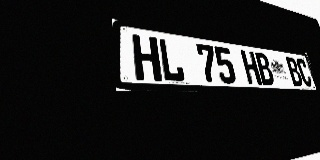5: (213, 46, 238, 84)
7: (195, 43, 220, 83)
B: (254, 52, 275, 85), (285, 56, 304, 86)
C: (295, 58, 314, 87)
H: (132, 34, 162, 81), (240, 50, 262, 85)
L: (157, 38, 186, 82)
